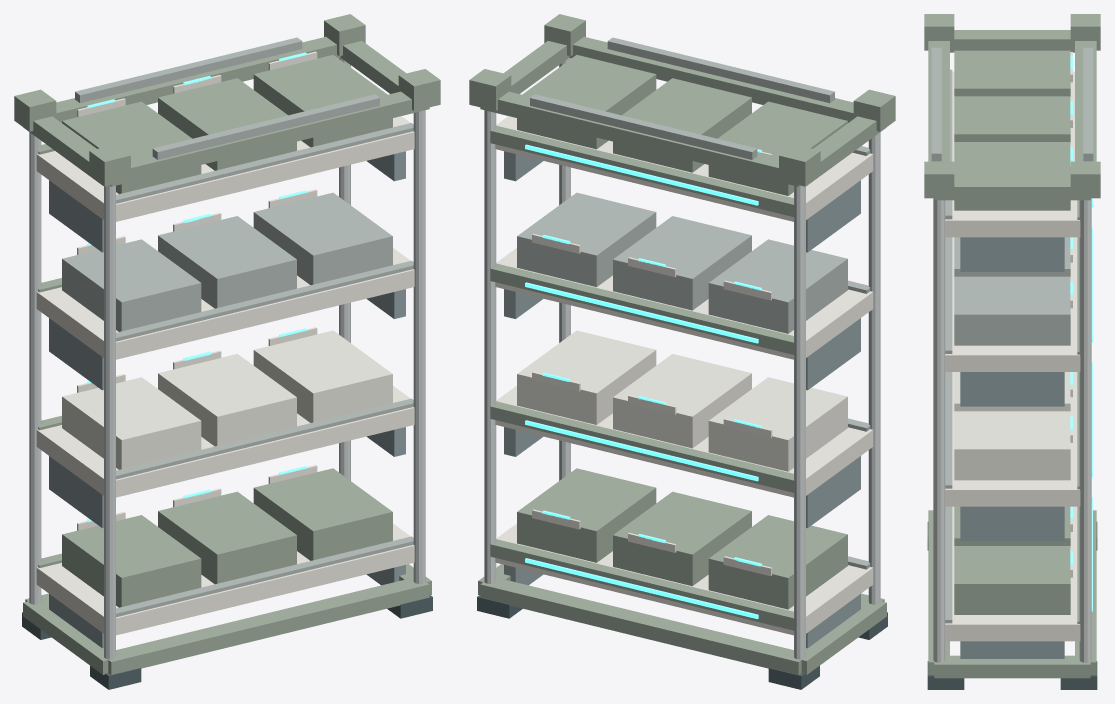
Rendered from s7-e0e1-st04-container-shelf.glb.
The picture shows the model from 3 angles, left to right: view 1: azimuth 30°, elevation 25°; view 2: azimuth 150°, elevation 25°; view 3: azimuth 270°, elevation 25°; orthographic projection. The views are drawn at different scales.
Visible parts, largest first — view 1: tray-load-deck-028, tray-load-deck-022, tray-load-deck-016, storage-bin-072, storage-bin-054, storage-bin-063, storage-bin-060, storage-bin-069, storage-bin-051, tray-load-deck-034, storage-bin-057, storage-bin-048 (+32 smaller); view 2: storage-bin-072, storage-bin-063, storage-bin-054, storage-bin-051, storage-bin-069, storage-bin-060, rack-long-rail-008, storage-bin-048, storage-bin-057, storage-bin-066, storage-bin-081, chrome-vertical-post-004 (+36 smaller); view 3: storage-bin-063, storage-bin-072, storage-bin-054, chrome-vertical-post-004, chrome-vertical-post-006, storage-bin-075, storage-bin-081, storage-bin-078, tray-load-deck-016, tray-load-deck-022, tray-load-deck-028, tray-load-deck-034 (+29 smaller).
Part boxes in pixels (x1,y1,x2,y2): tray-load-deck-028: [36, 248, 414, 359]; tray-load-deck-022: [36, 386, 414, 497]; tray-load-deck-016: [36, 523, 414, 635]; storage-bin-072: [253, 192, 392, 285]; storage-bin-054: [253, 468, 392, 560]; storage-bin-063: [253, 330, 392, 422]; storage-bin-060: [158, 354, 296, 446]; storage-bin-069: [158, 216, 296, 308]; storage-bin-051: [158, 491, 296, 584]; tray-load-deck-034: [36, 116, 414, 221]; storage-bin-057: [62, 377, 201, 469]; storage-bin-048: [62, 515, 201, 607]; storage-bin-072: [517, 192, 656, 287]; storage-bin-063: [517, 330, 656, 424]; storage-bin-054: [517, 468, 656, 562]; storage-bin-051: [613, 491, 751, 586]; storage-bin-069: [613, 216, 751, 310]; storage-bin-060: [613, 354, 751, 448]; rack-long-rail-008: [480, 577, 809, 674]; storage-bin-048: [708, 515, 847, 609]; storage-bin-057: [708, 377, 847, 471]; storage-bin-066: [708, 239, 847, 333]; storage-bin-081: [517, 55, 656, 149]; chrome-vertical-post-004: [484, 110, 496, 583]; storage-bin-063: [954, 411, 1070, 480]; storage-bin-072: [954, 276, 1070, 345]; storage-bin-054: [954, 546, 1070, 614]; chrome-vertical-post-004: [1079, 198, 1091, 662]; chrome-vertical-post-006: [933, 198, 945, 662]; storage-bin-075: [954, 50, 1070, 96]; storage-bin-081: [954, 142, 1070, 210]; storage-bin-078: [954, 96, 1070, 141]; tray-load-deck-016: [944, 506, 1080, 641]; tray-load-deck-022: [944, 372, 1080, 506]; tray-load-deck-028: [944, 237, 1080, 371]; tray-load-deck-034: [944, 71, 1080, 237].
Bounding box in the file's own units: 1.14 × 1.72 × 0.53.
